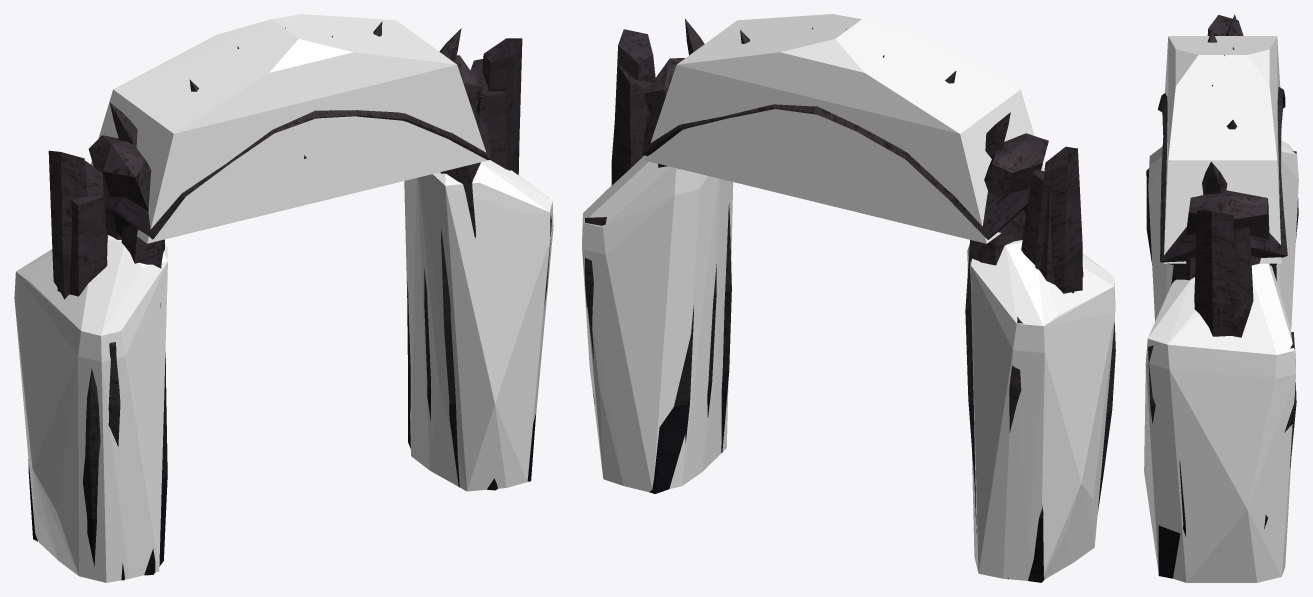
Rendered from volcanic_obsidian_arch.glb.
3 renders of one model, left to right at view 1: azimuth 30°, elevation 25°; view 2: azimuth 150°, elevation 25°; view 3: azimuth 270°, elevation 25°, orthographic. The views are drawn at different scales.
Parts seen in each view (by area): view 1: col_varch_bridge, col_varch_left, col_varch_right, VolcanicObsidianArch; view 2: col_varch_bridge, col_varch_left, col_varch_right, VolcanicObsidianArch; view 3: col_varch_right, col_varch_bridge, VolcanicObsidianArch, col_varch_left.
Boxes of the visible parts, x1,y1,x2,y2 form: col_varch_bridge: [90, 14, 488, 243]; col_varch_left: [14, 235, 167, 582]; col_varch_right: [404, 160, 553, 491]; VolcanicObsidianArch: [28, 21, 551, 580]; col_varch_bridge: [645, 14, 1044, 243]; col_varch_left: [967, 240, 1115, 580]; col_varch_right: [582, 155, 733, 491]; VolcanicObsidianArch: [585, 19, 1115, 582]; col_varch_right: [1144, 263, 1295, 582]; col_varch_bridge: [1163, 36, 1281, 263]; VolcanicObsidianArch: [1146, 14, 1298, 578]; col_varch_left: [1148, 141, 1298, 329].
Size of the model in its own units: 16.7 by 15.64 by 5.11.
Materials: 3 (1 with a texture image).
